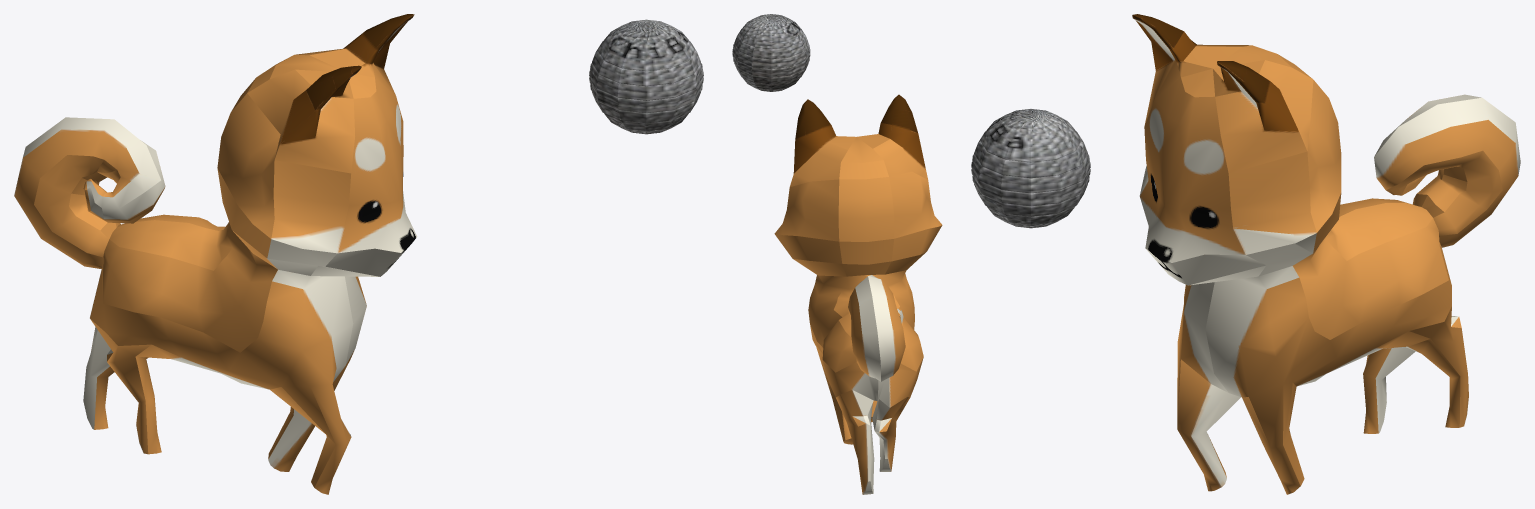
The model's file is ball_frame14.obj.
The picture shows the model from 3 angles, left to right: view 1: azimuth 30°, elevation 25°; view 2: azimuth 150°, elevation 25°; view 3: azimuth 270°, elevation 25°; orthographic projection. The views are drawn at different scales.
Parts seen in each view (by area): view 1: walk1:newRigging:BodzL1, pSphere1; view 2: walk1:newRigging:BodzL1, pSphere1; view 3: walk1:newRigging:BodzL1, pSphere1.
Boxes of the visible parts, left/top/right/bottom form: walk1:newRigging:BodzL1: left=14, top=14, right=417, bottom=494; pSphere1: left=589, top=19, right=703, bottom=134; walk1:newRigging:BodzL1: left=774, top=94, right=942, bottom=494; pSphere1: left=732, top=14, right=810, bottom=91; walk1:newRigging:BodzL1: left=1132, top=14, right=1520, bottom=494; pSphere1: left=971, top=109, right=1090, bottom=228.
Bounding box in the file's own units: 8.32 × 8.32 × 8.29.
Materials: 2 (2 with a texture image).
